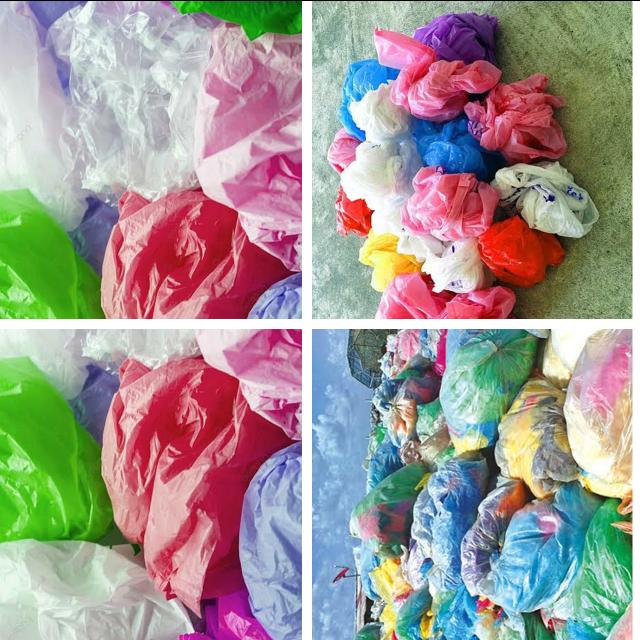plastik: (103, 357, 291, 614), (63, 0, 218, 197), (194, 23, 302, 269), (101, 189, 291, 318), (0, 356, 113, 542), (0, 0, 88, 229), (0, 538, 193, 640), (479, 480, 603, 611), (0, 188, 104, 318), (239, 441, 302, 640), (439, 328, 539, 453), (375, 28, 501, 121), (197, 328, 302, 438), (564, 328, 632, 496), (411, 453, 489, 590), (494, 377, 580, 497), (464, 73, 566, 163), (490, 160, 599, 237), (573, 499, 632, 635), (350, 462, 427, 558), (401, 166, 499, 240), (375, 271, 515, 318), (477, 214, 564, 286), (413, 115, 504, 180), (341, 138, 423, 209), (397, 234, 494, 292), (338, 58, 399, 140), (177, 589, 275, 640), (413, 11, 498, 63), (349, 79, 412, 143), (359, 229, 422, 292), (395, 583, 431, 640), (327, 126, 360, 172), (371, 196, 408, 237)
